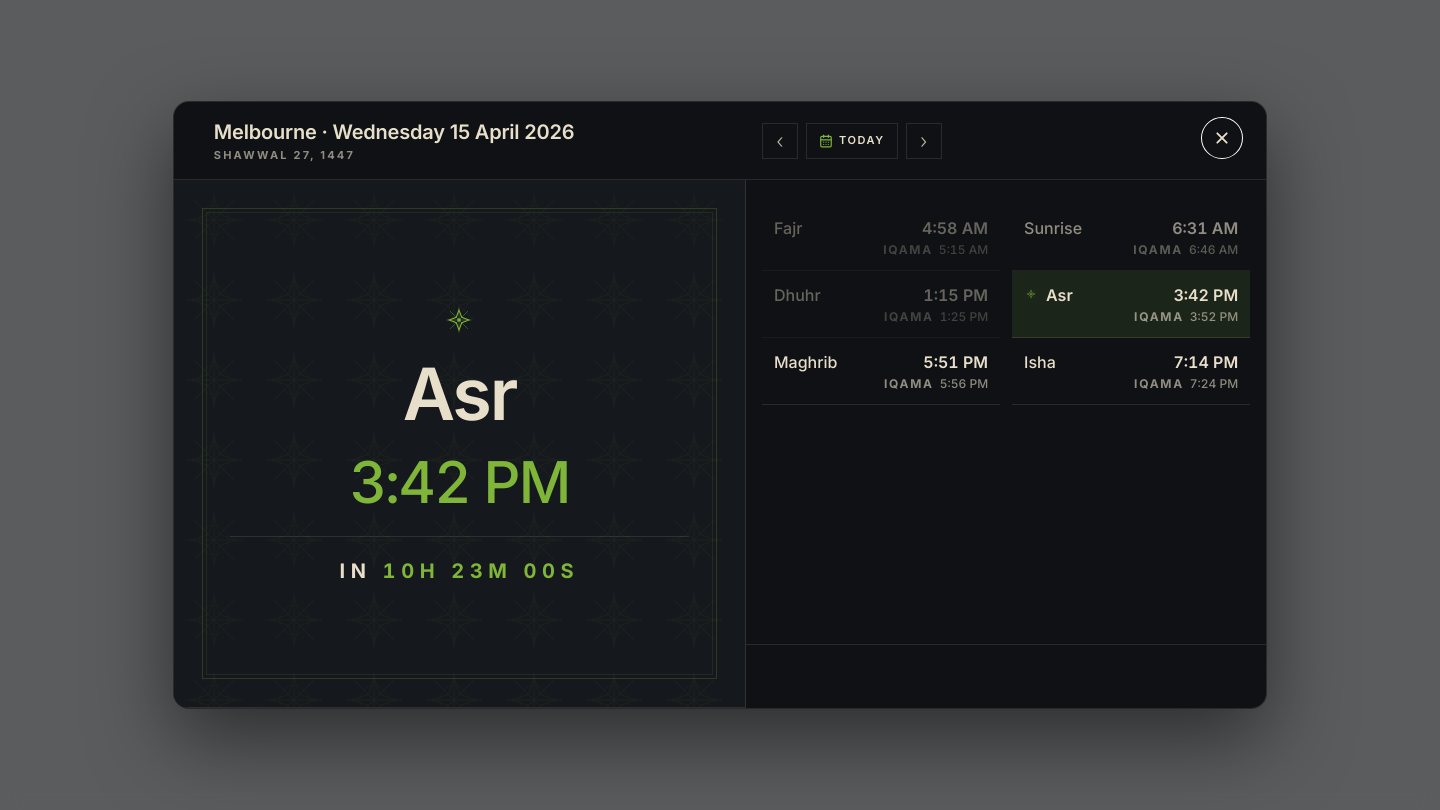
Test case: PrayerWidget — date picker › clicking the next-day button shifts to tomorrow
This screenshot has width=1440, height=810.
Click the button named "next day". click: (924, 141)
box: left=906, top=123, right=942, bottom=159
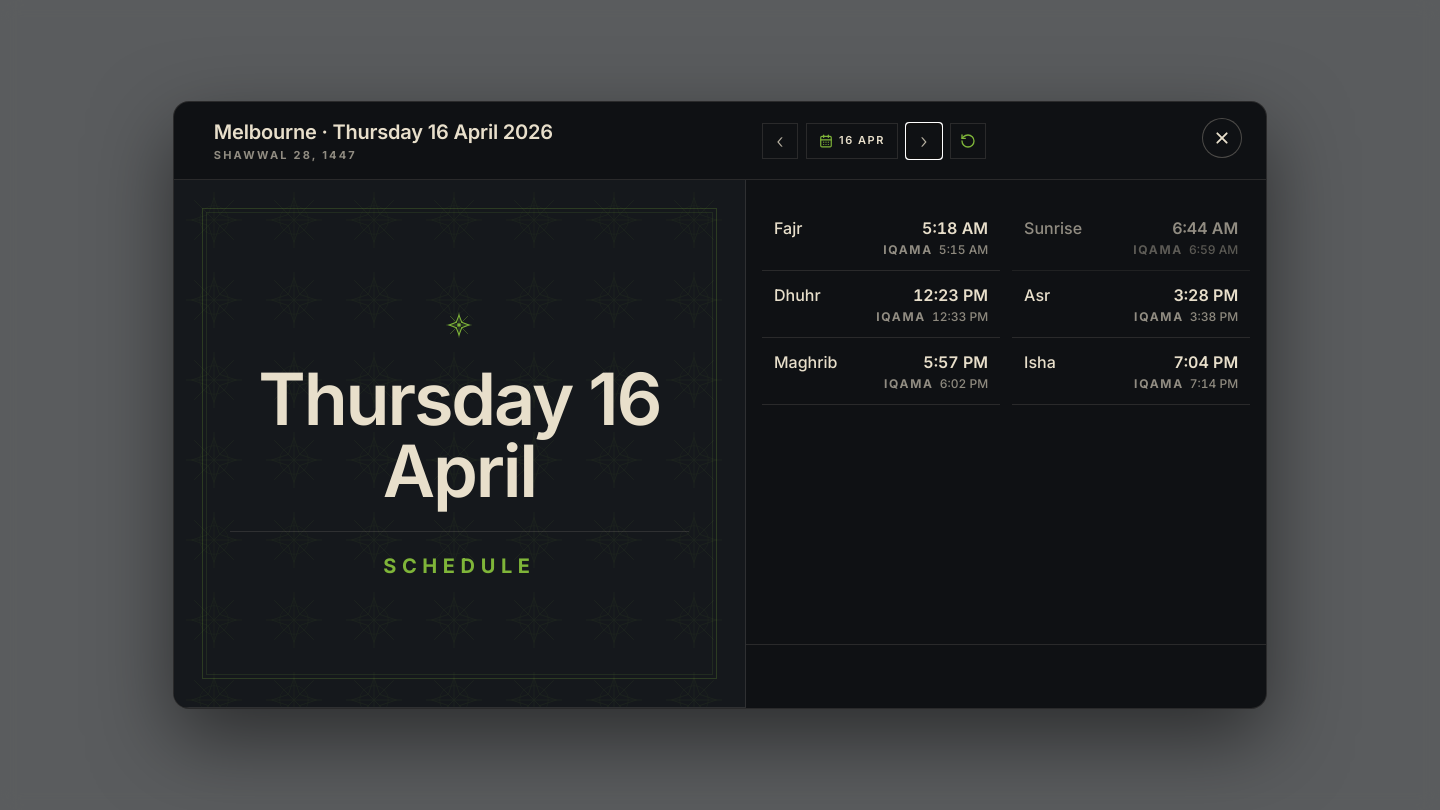
Now the text with test id "widget-date-label" shows "16 April 2026", box left=332, top=120, right=553, bottom=144
